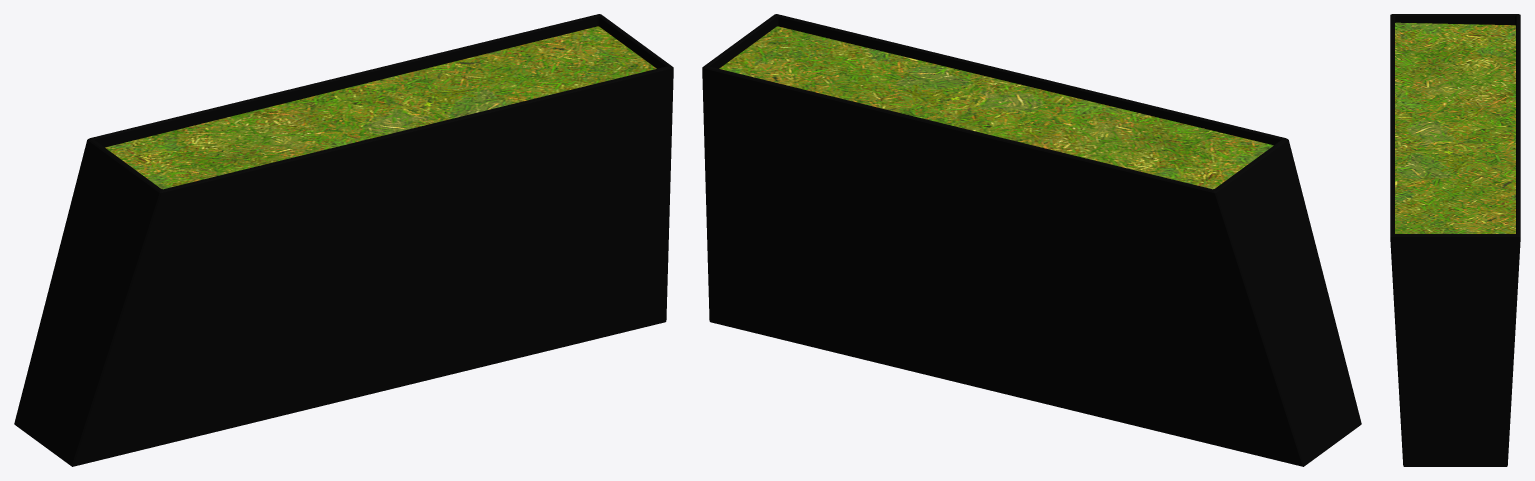
Rendered from W_O_Playground_Glassbed_002_L0.fbx.
3 renders of one model, left to right at view 1: azimuth 30°, elevation 25°; view 2: azimuth 150°, elevation 25°; view 3: azimuth 270°, elevation 25°, orthographic. The views are drawn at different scales.
Visible parts, largest first — view 1: W_O_Playground_Glassbed_002_L0; view 2: W_O_Playground_Glassbed_002_L0; view 3: W_O_Playground_Glassbed_002_L0.
Part boxes in pixels (x1,y1,x2,y2): W_O_Playground_Glassbed_002_L0: [14, 14, 673, 466]; W_O_Playground_Glassbed_002_L0: [702, 14, 1361, 466]; W_O_Playground_Glassbed_002_L0: [1390, 14, 1520, 466].
Bounding box in the file's own units: 1.48 × 0.6209 × 0.3171.
